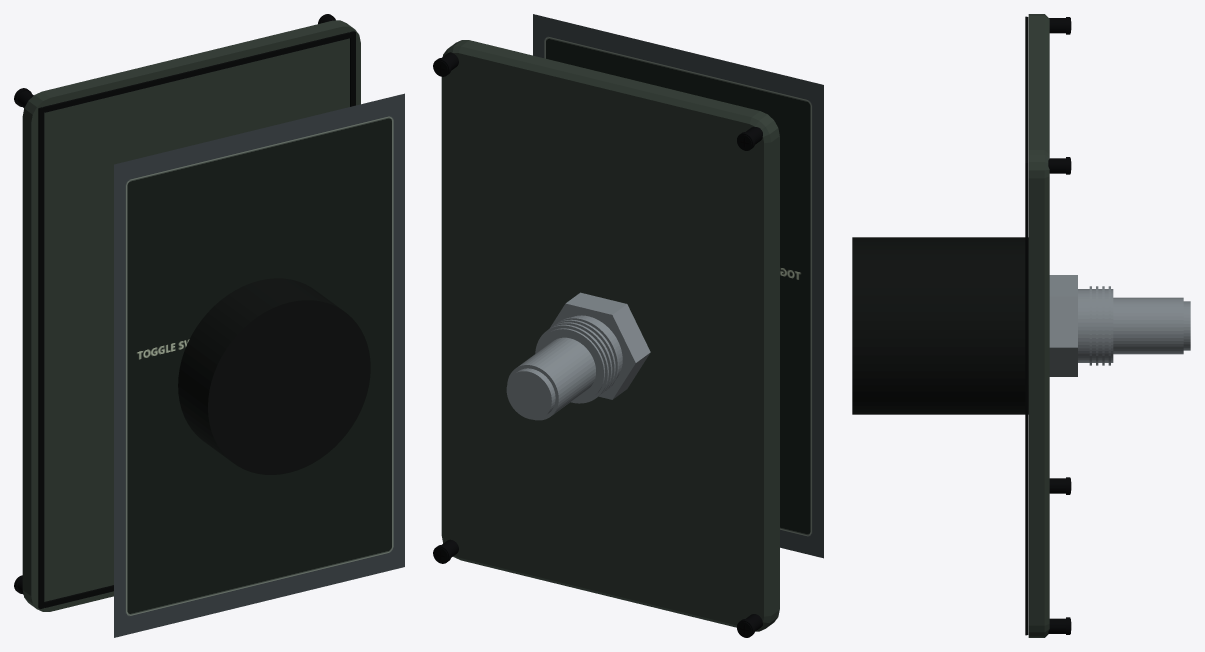
Rendered from MFDStudio.obj.
3 views of the same model, side by side, from view 1: azimuth 30°, elevation 25°; view 2: azimuth 150°, elevation 25°; view 3: azimuth 270°, elevation 25° (orthographic). The views are drawn at different scales.
Visible parts, largest first — view 1: MFDStudioScreen, MFDStudioBody, MFDStudioMount; view 2: MFDStudioBody, MFDStudioScreen, MFDStudioMount, MFDStudioActuator, MFDStudioScrews; view 3: MFDStudioMount, MFDStudioBody, MFDStudioActuator, MFDStudioScrews.
Part boxes in pixels (x1=…): MFDStudioScreen: x1=114, y1=93, x2=404, y2=637; MFDStudioBody: x1=22, y1=20, x2=360, y2=611; MFDStudioMount: x1=178, y1=278, x2=370, y2=474; MFDStudioBody: x1=441, y1=40, x2=779, y2=631; MFDStudioScreen: x1=533, y1=14, x2=823, y2=558; MFDStudioMount: x1=535, y1=292, x2=650, y2=403; MFDStudioActuator: x1=506, y1=337, x2=595, y2=420; MFDStudioScrews: x1=433, y1=52, x2=762, y2=637; MFDStudioMount: x1=852, y1=237, x2=1113, y2=414; MFDStudioBody: x1=1025, y1=14, x2=1049, y2=637; MFDStudioActuator: x1=1113, y1=297, x2=1190, y2=354; MFDStudioScrews: x1=1048, y1=17, x2=1071, y2=634.
Bounding box in the file's own units: 0.051 × 0.076 × 0.048.
7 materials, 1 textured.
